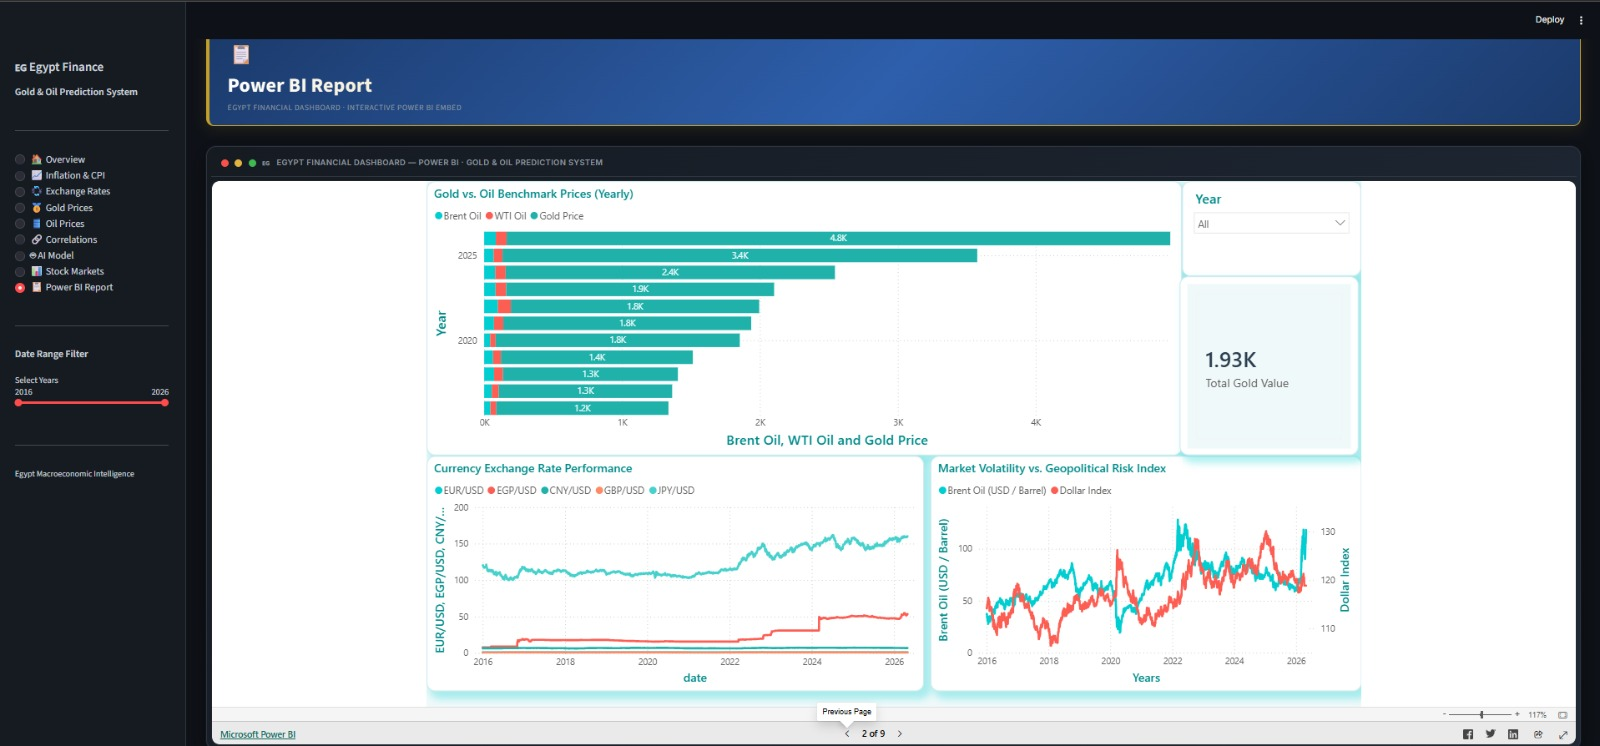

The page's visual inventory and layout, read from the dashboard file:
{"tool":"powerbi","page":{"name":"General ","canvas":[1280,720],"ordinal":0},"visuals":[{"type":"barChart","fields":{"Y":["Avg(new_master_table.brent_oil_price_usd)","Avg(new_master_table.wti_price_usd)","Avg(new_master_table.gold_price_usd)"],"Category":["new_master_table.date.Variation.Date Hierarchy.Year","new_master_table.date.Variation.Date Hierarchy.Month","new_master_table.date.Variation.Date Hierarchy.Day"]},"box":[10.1,0,473.7,359.5],"z":0},{"type":"lineChart","fields":{"Y":["Avg(new_master_table.chfusd_price_usd)","Avg(new_master_table.egpusd_value)","Avg(new_master_table.eurusd_price_usd)","Avg(new_master_table.jpyusd_price_usd)"],"Category":["new_master_table.date.Variation.Date Hierarchy.Year"]},"box":[10.1,376.3,702.2,322.5],"z":1000},{"type":"lineChart","fields":{"Y":["Avg(new_master_table.vix_price_usd)","Avg(new_master_table.gpr_gpr)"],"Category":["new_master_table.date.Variation.Date Hierarchy.Year","new_master_table.date.Variation.Date Hierarchy.Month"]},"box":[712.2,359.5,567.8,361.2],"z":2000},{"type":"pieChart","fields":{"Y":["Avg(new_master_table.egx30_price_egp)","Avg(new_master_table.sp500_price_usd)","Avg(new_master_table.nasdaq_price_usd)"]},"box":[483.8,0,473.7,324.2],"z":3000},{"type":"slicer","fields":{"Values":["new_master_table.date.Variation.Date Hierarchy.Year","new_master_table.date.Variation.Date Hierarchy.Month"]},"box":[957.8,0,322.5,93.3],"z":4000},{"type":"cardVisual","fields":{"Data":["Sum(new_master_table.gold_price_usd)"]},"box":[1002.8,139.4,230.1,168],"z":5000}]}

Visuals, with their boxes on the page's 1280x720 design canvas (x1, y1, x2, y2). These are canvas units, not pixel positions in the 1600x746 screenshot, which may show the page scaled, cropped or inside an application window:
barChart - Avg(new_master_table.brent_oil_price_usd) x Avg(new_master_table.wti_price_usd): (left=10, top=0, right=484, bottom=360)
lineChart - Avg(new_master_table.chfusd_price_usd) x Avg(new_master_table.egpusd_value): (left=10, top=376, right=712, bottom=699)
lineChart - Avg(new_master_table.vix_price_usd) x Avg(new_master_table.gpr_gpr): (left=712, top=360, right=1280, bottom=721)
pieChart - Avg(new_master_table.egx30_price_egp) x Avg(new_master_table.sp500_price_usd): (left=484, top=0, right=958, bottom=324)
slicer - new_master_table.date.Variation.Date Hierarchy.Year x new_master_table.date.Variation.Date Hierarchy.Month: (left=958, top=0, right=1280, bottom=93)
cardVisual - Sum(new_master_table.gold_price_usd): (left=1003, top=139, right=1233, bottom=307)
